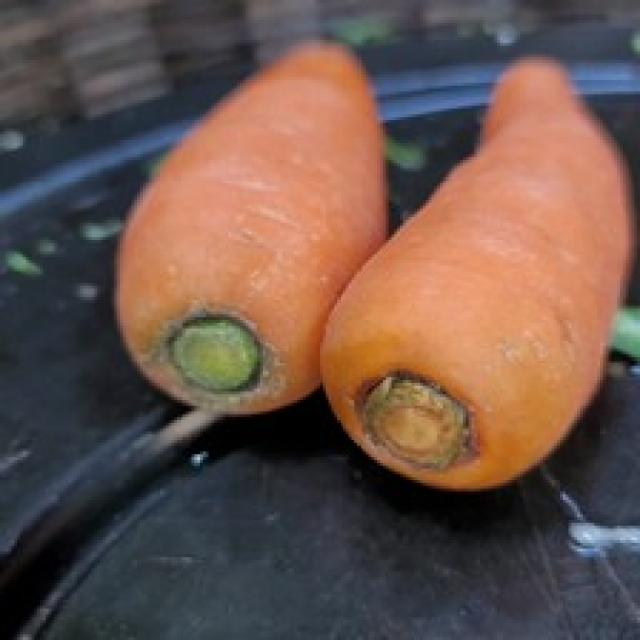carrot: (329, 55, 637, 496), (107, 41, 385, 420)
